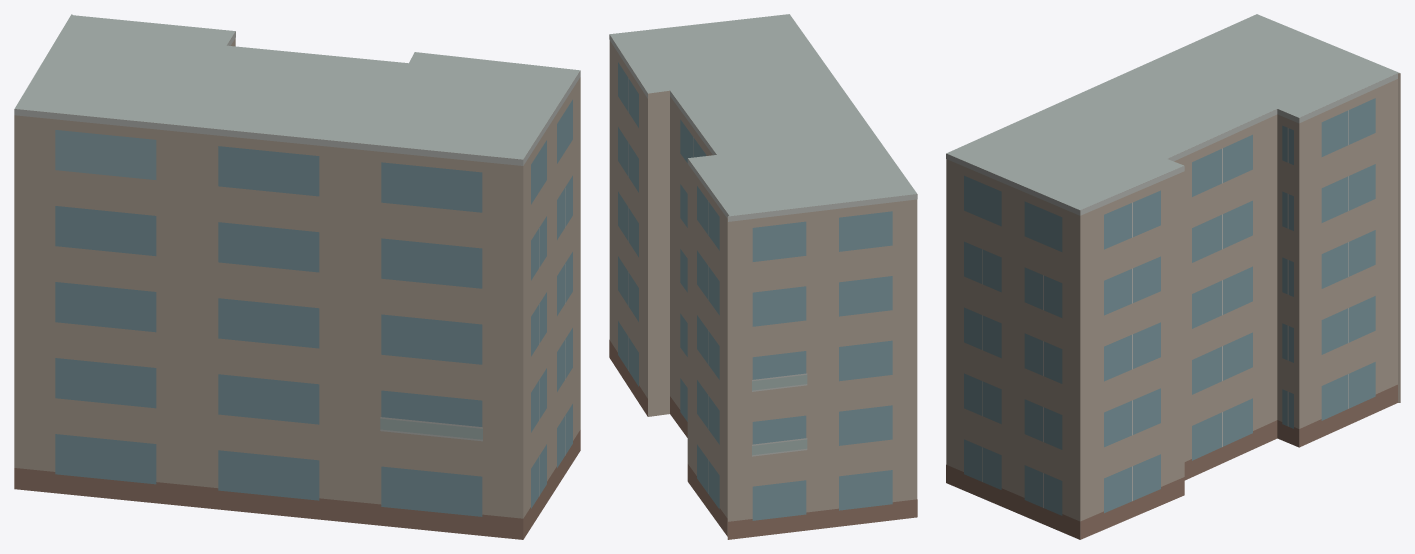
The model's file is survey-upis-32683046.glb.
3 views of the same model, side by side, from view 1: azimuth 30°, elevation 25°; view 2: azimuth 150°, elevation 25°; view 3: azimuth 270°, elevation 25° (orthographic). The views are drawn at different scales.
Visible parts, largest first — view 1: survey-upis-32683046.tmp; view 2: survey-upis-32683046.tmp; view 3: survey-upis-32683046.tmp.
Boxes of the visible parts, box(x1,y1,x2,y2) form: survey-upis-32683046.tmp: box(14, 14, 580, 539); survey-upis-32683046.tmp: box(609, 14, 917, 539); survey-upis-32683046.tmp: box(946, 14, 1400, 539).
Bounding box in the file's own units: 18.53 × 14.5 × 18.13.
